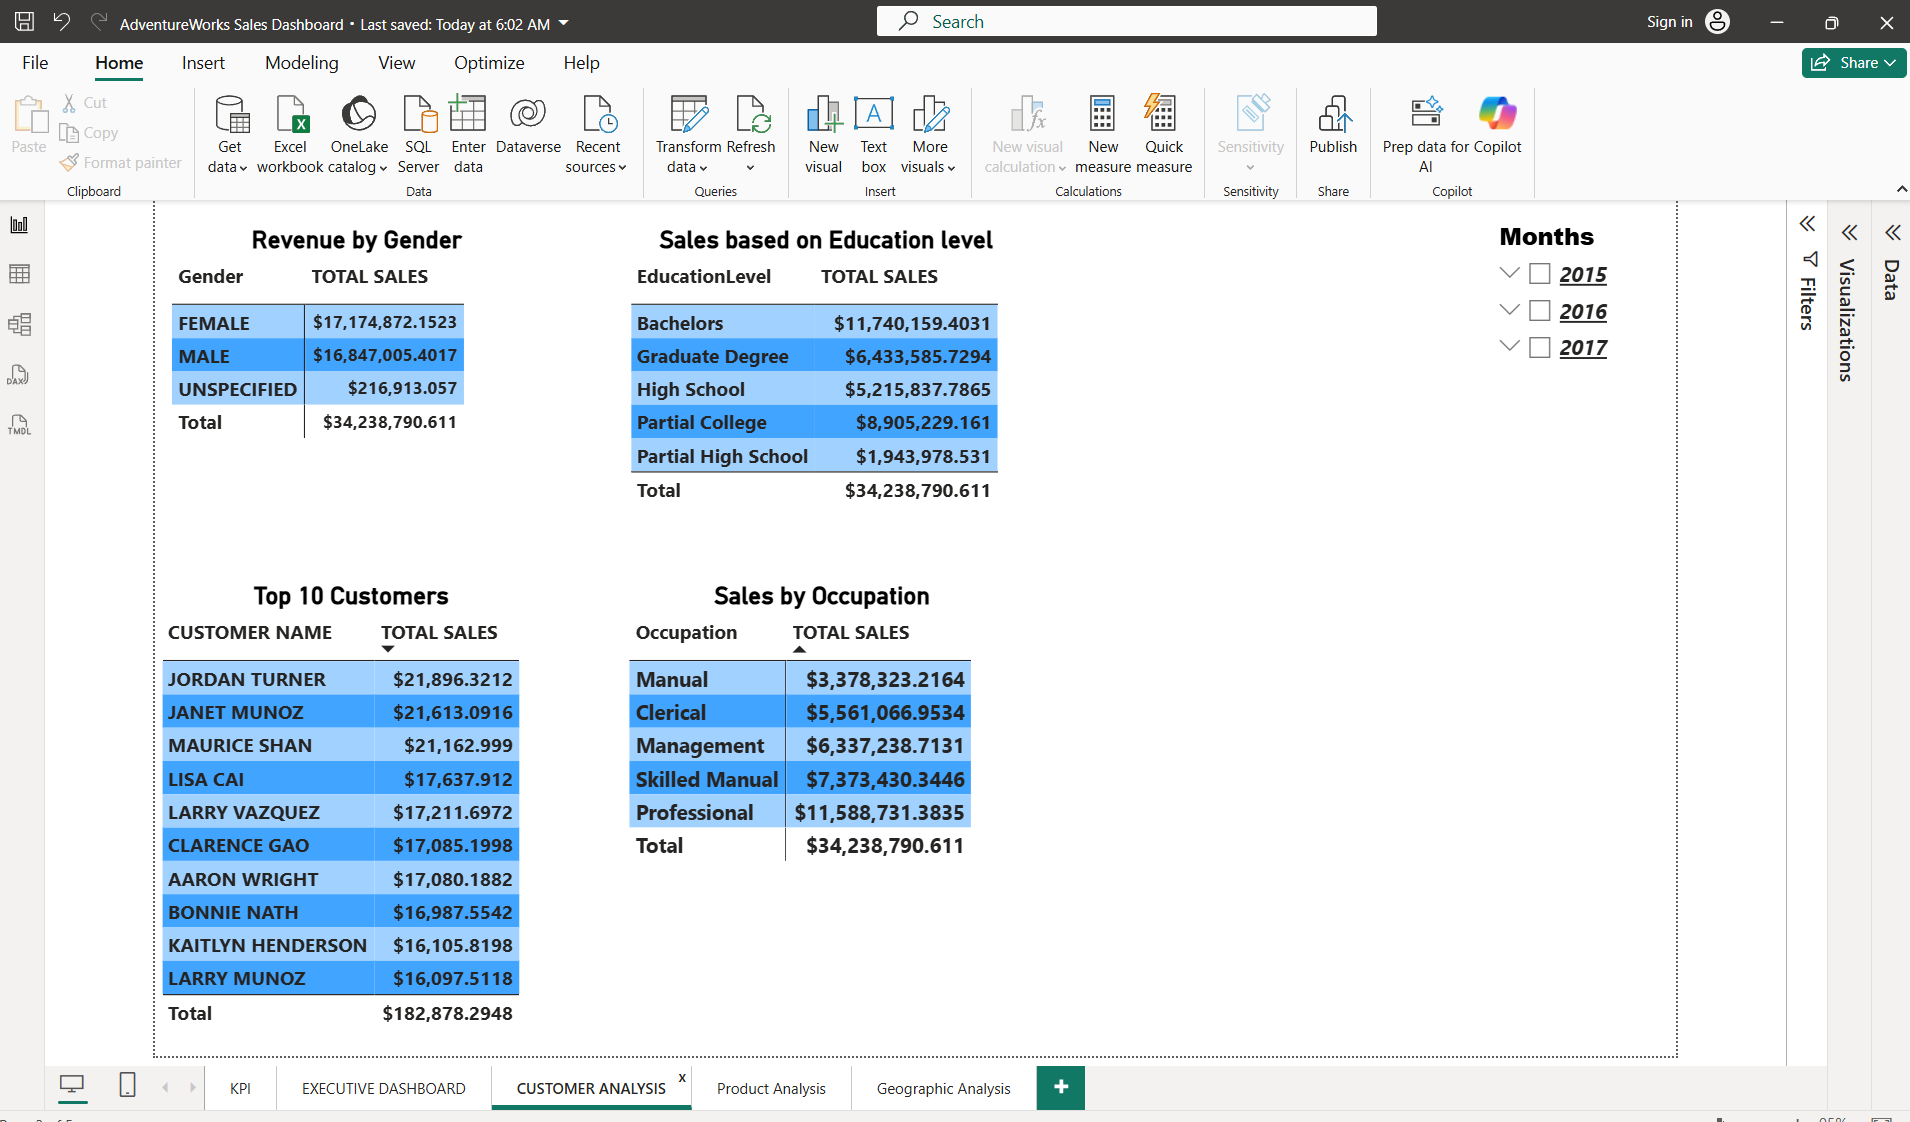

The dashboard page shown, as its layout file describes it:
{"tool":"powerbi","page":{"name":"CUSTOMER ANALYSIS","canvas":[1280,720],"ordinal":2},"visuals":[{"type":"pivotTable","title":"Revenue by Gender","fields":{"Values":["SALES.TOTAL SALES"],"Rows":["CUSTOMER DETAILS.Gender"]},"box":[9.5,21,320.7,215.5],"z":0},{"type":"pivotTable","title":"Sales by Occupation","fields":{"Rows":["CUSTOMER DETAILS.Occupation"],"Values":["SALES.TOTAL SALES"]},"box":[394.2,320.9,333.7,274.4],"z":1000},{"type":"tableEx","title":"Sales based on Education level","fields":{"Values":["CUSTOMER DETAILS.EducationLevel","SALES.TOTAL SALES"]},"box":[394.2,20.9,340.7,241.9],"z":2000},{"type":"tableEx","title":"Top 10 Customers","fields":{"Values":["CUSTOMER DETAILS.CUSTOMER NAME","SALES.TOTAL SALES"]},"box":[0,320.9,330.2,384.9],"z":3000},{"type":"slicer","fields":{"Values":["DATE TABLE.YEAR","DATE TABLE.MONTH"]},"box":[1117.6,10.5,161.9,621.4],"z":4000}]}

Visuals, with their boxes on the page's 1280x720 design canvas (x1, y1, x2, y2). These are canvas units, not pixel positions in the 1910x1122 screenshot, which may show the page scaled, cropped or inside an application window:
"Revenue by Gender" pivotTable: (x1=10, y1=21, x2=330, y2=236)
"Sales by Occupation" pivotTable: (x1=394, y1=321, x2=728, y2=595)
"Sales based on Education level" tableEx: (x1=394, y1=21, x2=735, y2=263)
"Top 10 Customers" tableEx: (x1=0, y1=321, x2=330, y2=706)
slicer - DATE TABLE.YEAR x DATE TABLE.MONTH: (x1=1118, y1=10, x2=1280, y2=632)
